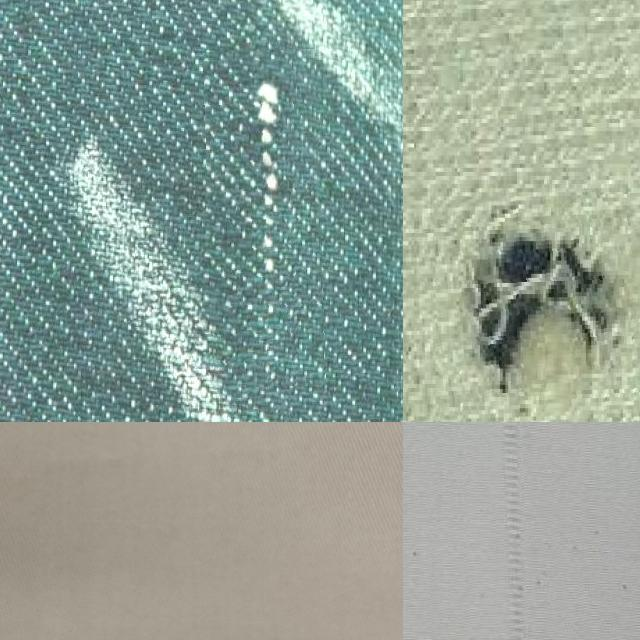Thread_other: (425, 422, 640, 640), (206, 50, 324, 388)
seam: (435, 195, 640, 422)
